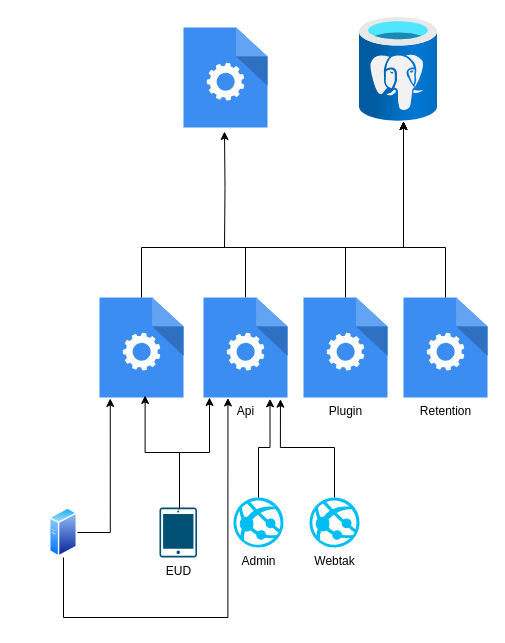
This 505x643 diagram has some shape labels left out. The shapes that lost their labels are listed below. From the top down, each one's centre as x and y in pixels, then its label:
At pixel 225 77: "Config".
At pixel 141 347: "Messaging".
At pixel 63 532: "Federated Server".
